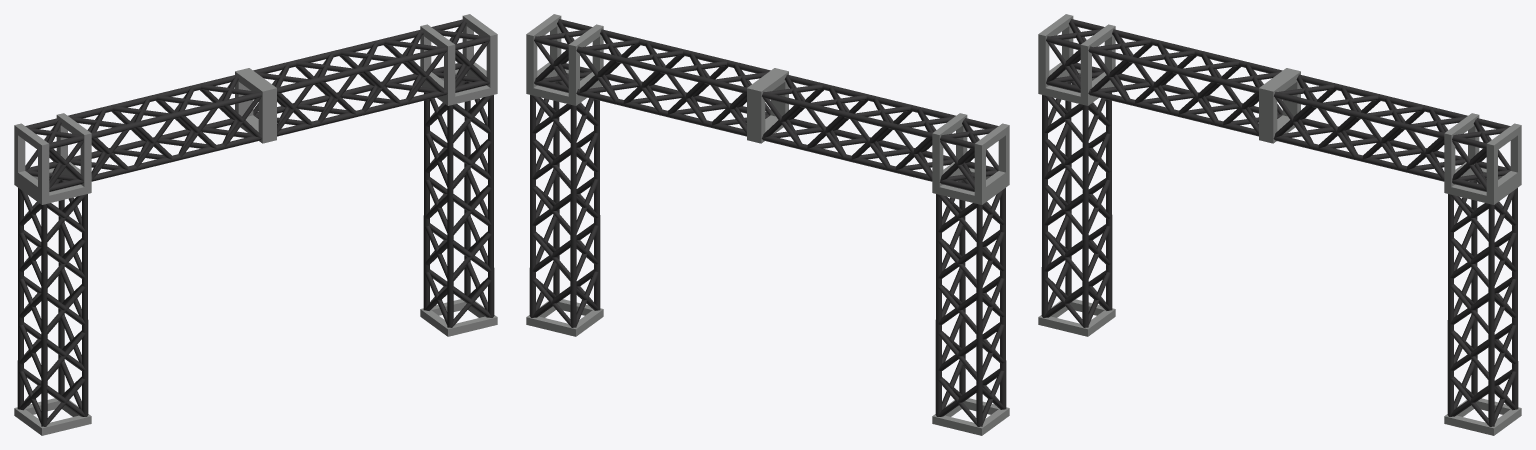
Rendered from scene_construction_001.gltf.
3 renders of one model, left to right at view 1: azimuth 30°, elevation 25°; view 2: azimuth 150°, elevation 25°; view 3: azimuth 330°, elevation 25°, orthographic.
Visible parts, largest first — view 1: scene_construction_001; view 2: scene_construction_001; view 3: scene_construction_001.
Boxes of the visible parts, left/top/right/bottom form: scene_construction_001: left=14, top=14, right=497, bottom=435; scene_construction_001: left=526, top=14, right=1009, bottom=435; scene_construction_001: left=1038, top=14, right=1521, bottom=435.
Bounding box in the file's own units: 8.39 × 5.11 × 0.8839.
Materials: 1 (1 with a texture image).
